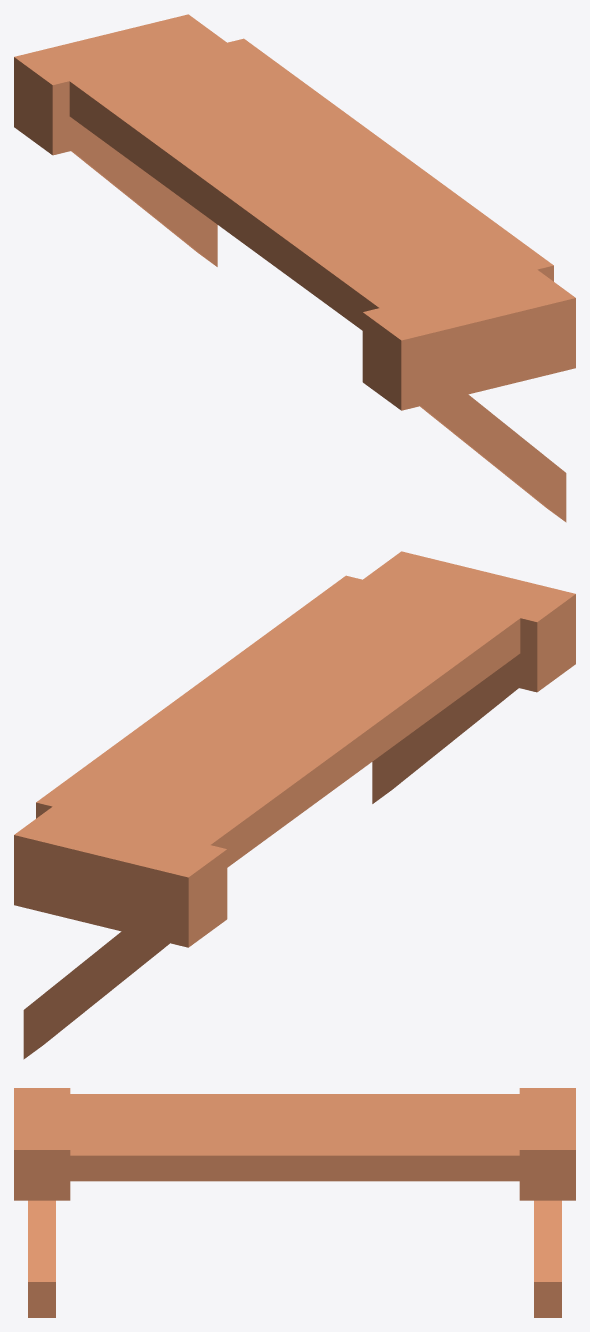
Rendered from overhang.obj.
3 views of the same model, one above another, from view 1: azimuth 30°, elevation 25°; view 2: azimuth 150°, elevation 25°; view 3: azimuth 270°, elevation 25° (orthographic). The views are drawn at different scales.
Visible parts, largest first — view 1: overhang; view 2: overhang; view 3: overhang.
Part boxes in pixels (left/top/right/bottom): overhang: left=14, top=14, right=575, bottom=522; overhang: left=14, top=551, right=575, bottom=1059; overhang: left=14, top=1088, right=575, bottom=1317.
Bounding box in the file's own units: 0.285 × 0.33 × 1.
